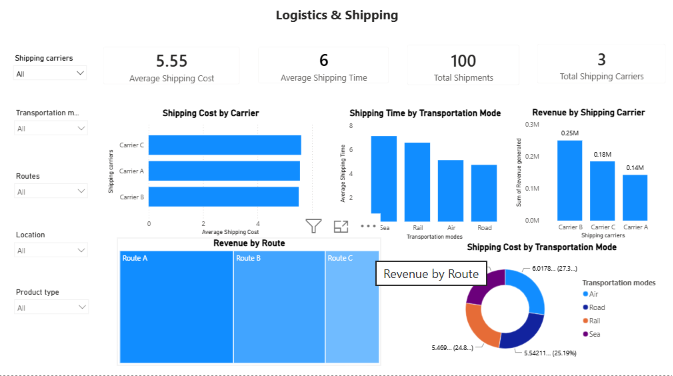

The page's visual inventory and layout, read from the dashboard file:
{"tool":"powerbi","page":{"name":"Page 3","canvas":[1280,720],"ordinal":2},"visuals":[{"type":"textbox","box":[500.8,15.1,279.7,51],"z":0},{"type":"slicer","fields":{"Values":["Supply Chain.Shipping carriers"]},"box":[18.9,105.8,158.7,81.3],"z":1000},{"type":"slicer","fields":{"Values":["Supply Chain.Transportation modes"]},"box":[20.8,209.8,158.7,75.6],"z":2000},{"type":"slicer","fields":{"Values":["Supply Chain.Routes"]},"box":[20.8,328.8,158.7,62.4],"z":3000},{"type":"slicer","fields":{"Values":["Supply Chain.Location"]},"box":[20.8,440.3,158.7,73.7],"z":4000},{"type":"slicer","fields":{"Values":["Supply Chain.Product type"]},"box":[20.8,548,160.6,75.6],"z":5000},{"type":"cardVisual","fields":{"Data":["Supply Chain.Average Shipping Cost"]},"box":[181.4,81.3,292.9,105.8],"z":6000},{"type":"cardVisual","fields":{"Data":["Supply Chain.Total Shipping Carriers"]},"box":[474.3,81.3,281.6,103.9],"z":7000},{"type":"cardVisual","fields":{"Data":["Supply Chain.Total Shipments"]},"box":[756,78,246,110],"z":8000},{"type":"cardVisual","fields":{"Data":["Supply Chain.Total Shipping Carriers"]},"box":[1001.6,75.6,277.8,109.6],"z":9000},{"type":"clusteredBarChart","title":"Shipping Cost by Carrier","fields":{"Y":["Supply Chain.Average Shipping Cost"],"Category":["Supply Chain.Shipping carriers"]},"box":[202,214,400,246],"z":10000},{"type":"clusteredColumnChart","title":"Shipping Time by Transportation Mode","fields":{"Category":["Supply Chain.Transportation modes"],"Y":["Supply Chain.Average Shipping Time"]},"box":[640,214,334,254],"z":11000},{"type":"clusteredColumnChart","title":"Revenue by Shipping Carrier","fields":{"Category":["Supply Chain.Shipping carriers"],"Y":["Sum(Supply Chain.Revenue generated)"]},"box":[974,212,286,254],"z":12000},{"type":"treemap","title":"Revenue by Route","fields":{"Group":["Supply Chain.Routes"],"Values":["Sum(Supply Chain.Revenue generated)"]},"box":[224,460,500,242],"z":13000},{"type":"donutChart","title":"Shipping Cost by Transportation Mode","fields":{"Y":["Supply Chain.Average Shipping Cost"],"Category":["Supply Chain.Transportation modes"]},"box":[806.9,466.8,442.2,234.3],"z":14000}]}

Visuals, with their boxes in screenshot pixels (x1, y1, x2, y2), scaled from the page's 1280x720 canvas onto the 673x376 screenshot:
textbox: [263,8,410,35]
slicer - Supply Chain.Shipping carriers: [10,55,93,98]
slicer - Supply Chain.Transportation modes: [11,110,94,149]
slicer - Supply Chain.Routes: [11,172,94,204]
slicer - Supply Chain.Location: [11,230,94,268]
slicer - Supply Chain.Product type: [11,286,95,326]
cardVisual - Supply Chain.Average Shipping Cost: [95,42,249,98]
cardVisual - Supply Chain.Total Shipping Carriers: [249,42,397,97]
cardVisual - Supply Chain.Total Shipments: [397,41,527,98]
cardVisual - Supply Chain.Total Shipping Carriers: [527,39,672,97]
"Shipping Cost by Carrier" clusteredBarChart: [106,112,317,240]
"Shipping Time by Transportation Mode" clusteredColumnChart: [336,112,512,244]
"Revenue by Shipping Carrier" clusteredColumnChart: [512,111,662,243]
"Revenue by Route" treemap: [118,240,381,367]
"Shipping Cost by Transportation Mode" donutChart: [424,244,657,366]
